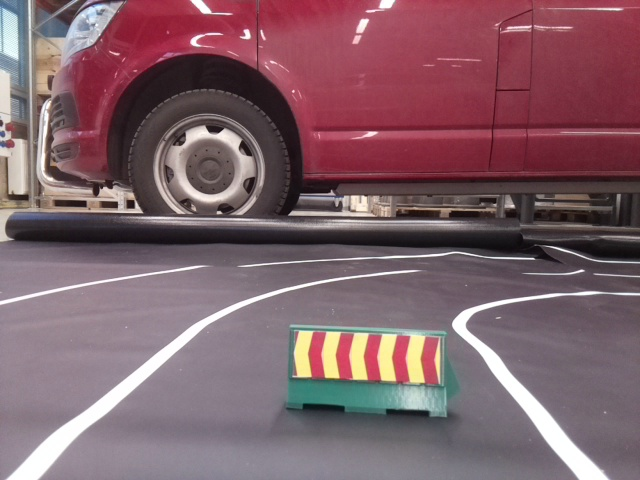ClosedRoadStand: (290, 326, 447, 417)
